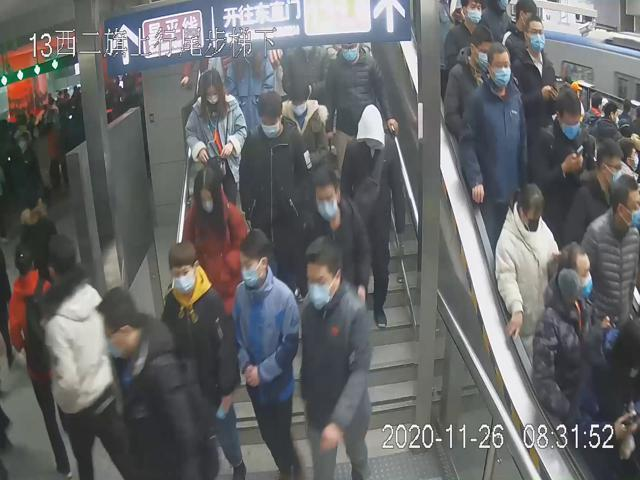person: (160, 239, 245, 478), (299, 236, 374, 480), (232, 228, 301, 480), (338, 100, 408, 332), (239, 88, 314, 291), (458, 38, 530, 246), (493, 177, 564, 347), (301, 161, 373, 310), (181, 164, 250, 316), (182, 67, 243, 184), (275, 72, 330, 178)
